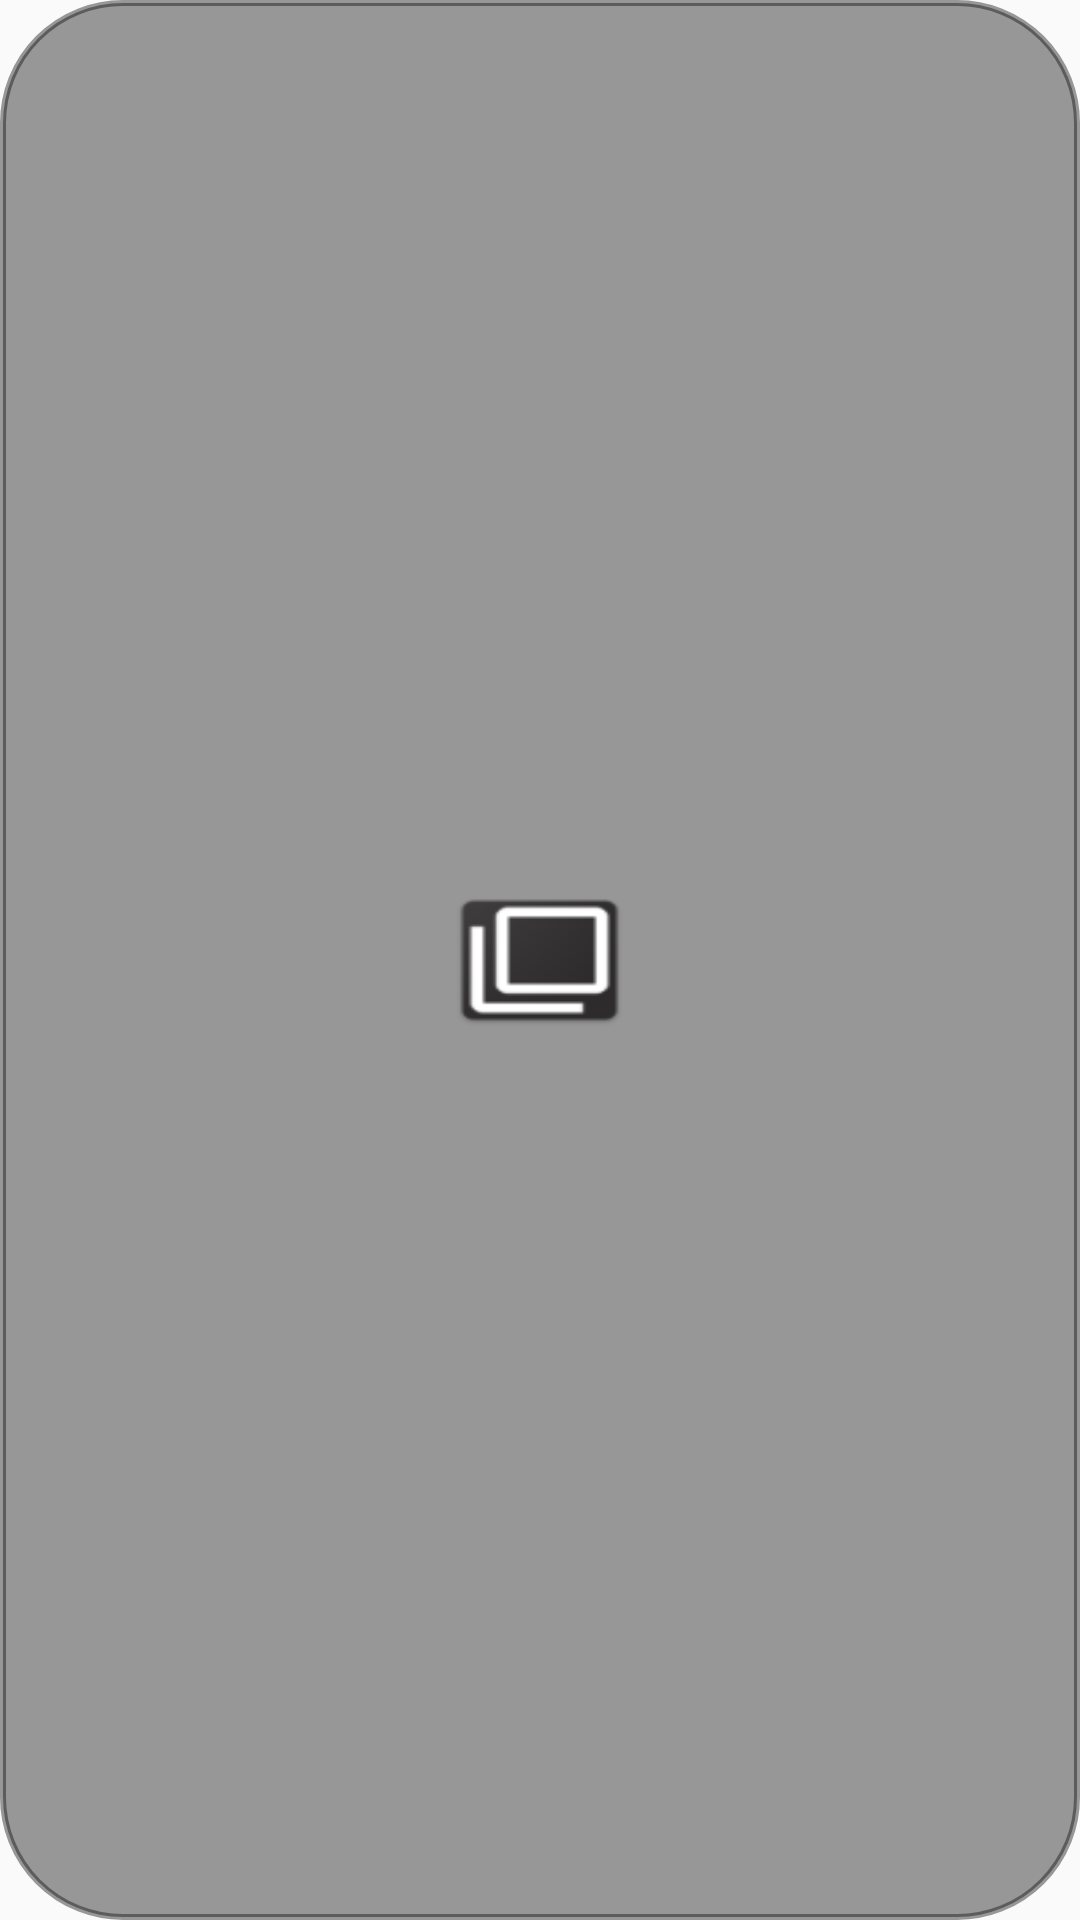

Where to tap for icons on this 1080x1920 app screen, as (x=x, y=y):
collection: (x=539, y=960)
